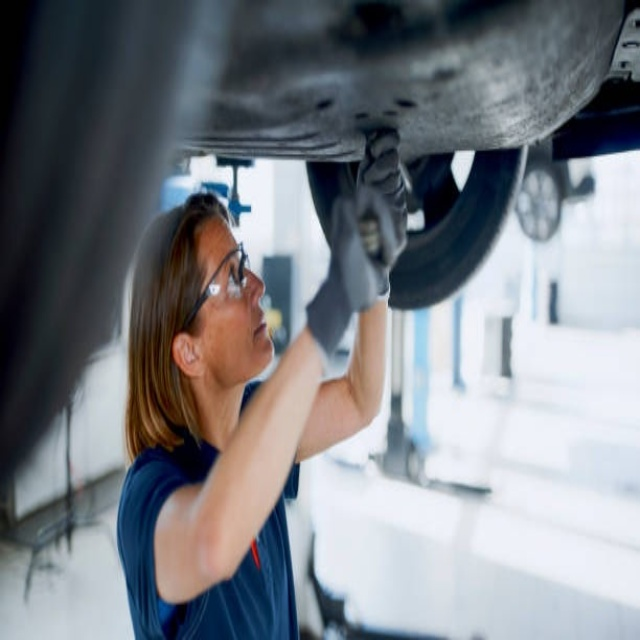Gafas: (182, 242, 250, 329)
Guantes: (305, 181, 394, 362)
Sin_mascara: (248, 292, 277, 361)
